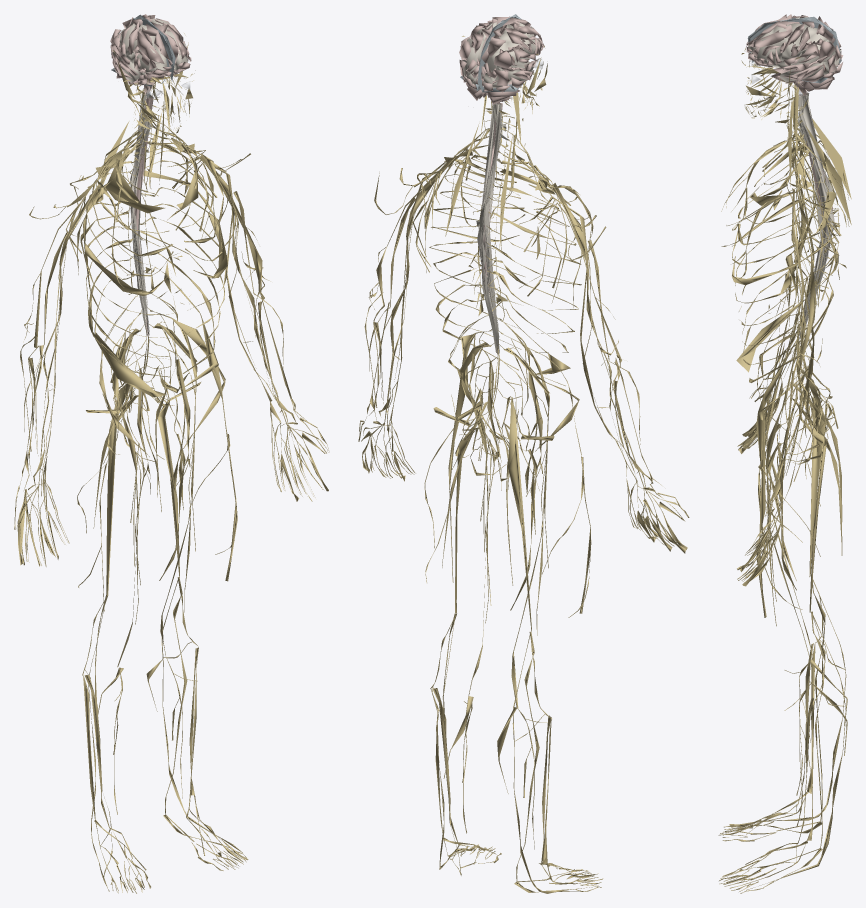
Rendered from adult_male.nervous.LOD4.glb.
The picture shows the model from 3 angles, left to right: view 1: azimuth 30°, elevation 25°; view 2: azimuth 150°, elevation 25°; view 3: azimuth 270°, elevation 25°; orthographic projection. The views are drawn at different scales.
Visible parts, largest first — view 1: ADULT.MALE.NERVOUS.INTERCOSTAL_NERVES.R, ADULT.MALE.NERVOUS.INTERCOSTAL_NERVES.L, ADULT.MALE.NERVOUS.SCIATIC_NERVE.R, ADULT.MALE.NERVOUS.LATERAL_FEMORAL_CUTANEOUS_NERVE.L, ADULT.MALE.NERVOUS.SCIATIC_NERVE.L, ADULT.MALE.NERVOUS.WHITE_MATTER_OF_TELENCEPHALON.R, ADULT.MALE.NERVOUS.FEMORAL_NERVE.R, ADULT.MALE.NERVOUS.FEMORAL_NERVE.L, ADULT.MALE.NERVOUS.DORSAL_DIGITAL_BRANCHES_OF_RADIAL_NERVE.R, ADULT.MALE.NERVOUS.SAPHENOUS_NERVE.L, ADULT.MALE.NERVOUS.MEDIAN_NERVE.L; view 2: ADULT.MALE.NERVOUS.INTERCOSTAL_NERVES.R, ADULT.MALE.NERVOUS.INTERCOSTAL_NERVES.L, ADULT.MALE.NERVOUS.SCIATIC_NERVE.R, ADULT.MALE.NERVOUS.WHITE_MATTER_OF_TELENCEPHALON.R, ADULT.MALE.NERVOUS.SAPHENOUS_NERVE.R, ADULT.MALE.NERVOUS.LATERAL_FEMORAL_CUTANEOUS_NERVE.L, ADULT.MALE.NERVOUS.ULNAR_NERVE.R, ADULT.MALE.NERVOUS.FEMORAL_NERVE.L, ADULT.MALE.NERVOUS.SAPHENOUS_NERVE.L, ADULT.MALE.NERVOUS.SPINAL_DURA, ADULT.MALE.NERVOUS.WHITE_MATTER_OF_SPINAL_CORD, ADULT.MALE.NERVOUS.LATERAL_FEMORAL_CUTANEOUS_NERVE.R (+1 smaller); view 3: ADULT.MALE.NERVOUS.INTERCOSTAL_NERVES.L, ADULT.MALE.NERVOUS.INTERCOSTAL_NERVES.R, ADULT.MALE.NERVOUS.WHITE_MATTER_OF_TELENCEPHALON, ADULT.MALE.NERVOUS.LATERAL_FEMORAL_CUTANEOUS_NERVE.L, ADULT.MALE.NERVOUS.SCIATIC_NERVE.R, ADULT.MALE.NERVOUS.SCIATIC_NERVE.L, ADULT.MALE.NERVOUS.SAPHENOUS_NERVE.L, ADULT.MALE.NERVOUS.ACCESSORY_NERVE_XI.L, ADULT.MALE.NERVOUS.ULNAR_NERVE.L, ADULT.MALE.NERVOUS.MEDIAN_NERVE.L, ADULT.MALE.NERVOUS.RADIAL_NERVE.L, ADULT.MALE.NERVOUS.VAGUS_NERVE_X.R (+29 smaller).
Boxes of the visible parts, x1=… form: ADULT.MALE.NERVOUS.INTERCOSTAL_NERVES.R: x1=80, y1=147, x2=173, y2=397; ADULT.MALE.NERVOUS.INTERCOSTAL_NERVES.L: x1=140, y1=141, x2=227, y2=389; ADULT.MALE.NERVOUS.SCIATIC_NERVE.R: x1=106, y1=383, x2=133, y2=595; ADULT.MALE.NERVOUS.LATERAL_FEMORAL_CUTANEOUS_NERVE.L: x1=173, y1=319, x2=237, y2=581; ADULT.MALE.NERVOUS.SCIATIC_NERVE.L: x1=154, y1=369, x2=179, y2=578; ADULT.MALE.NERVOUS.WHITE_MATTER_OF_TELENCEPHALON.R: x1=112, y1=22, x2=167, y2=82; ADULT.MALE.NERVOUS.FEMORAL_NERVE.R: x1=110, y1=314, x2=139, y2=566; ADULT.MALE.NERVOUS.FEMORAL_NERVE.L: x1=152, y1=311, x2=197, y2=551; ADULT.MALE.NERVOUS.DORSAL_DIGITAL_BRANCHES_OF_RADIAL_NERVE.R: x1=14, y1=486, x2=54, y2=566; ADULT.MALE.NERVOUS.SAPHENOUS_NERVE.L: x1=146, y1=437, x2=194, y2=798; ADULT.MALE.NERVOUS.MEDIAN_NERVE.L: x1=214, y1=166, x2=287, y2=424; ADULT.MALE.NERVOUS.INTERCOSTAL_NERVES.R: x1=490, y1=160, x2=581, y2=374; ADULT.MALE.NERVOUS.INTERCOSTAL_NERVES.L: x1=429, y1=155, x2=525, y2=370; ADULT.MALE.NERVOUS.SCIATIC_NERVE.R: x1=497, y1=397, x2=531, y2=631; ADULT.MALE.NERVOUS.WHITE_MATTER_OF_TELENCEPHALON.R: x1=482, y1=22, x2=540, y2=88; ADULT.MALE.NERVOUS.SAPHENOUS_NERVE.R: x1=497, y1=454, x2=546, y2=849; ADULT.MALE.NERVOUS.LATERAL_FEMORAL_CUTANEOUS_NERVE.L: x1=424, y1=334, x2=474, y2=582; ADULT.MALE.NERVOUS.ULNAR_NERVE.R: x1=552, y1=183, x2=626, y2=462; ADULT.MALE.NERVOUS.FEMORAL_NERVE.L: x1=459, y1=330, x2=490, y2=552; ADULT.MALE.NERVOUS.SAPHENOUS_NERVE.L: x1=443, y1=433, x2=491, y2=833; ADULT.MALE.NERVOUS.SPINAL_DURA: x1=476, y1=103, x2=507, y2=352; ADULT.MALE.NERVOUS.WHITE_MATTER_OF_SPINAL_CORD: x1=480, y1=186, x2=497, y2=347; ADULT.MALE.NERVOUS.LATERAL_FEMORAL_CUTANEOUS_NERVE.R: x1=527, y1=347, x2=591, y2=617; ADULT.MALE.NERVOUS.INTERCOSTAL_NERVES.L: x1=732, y1=150, x2=839, y2=382; ADULT.MALE.NERVOUS.INTERCOSTAL_NERVES.R: x1=732, y1=140, x2=838, y2=372; ADULT.MALE.NERVOUS.WHITE_MATTER_OF_TELENCEPHALON: x1=748, y1=23, x2=841, y2=82; ADULT.MALE.NERVOUS.LATERAL_FEMORAL_CUTANEOUS_NERVE.L: x1=756, y1=340, x2=820, y2=617; ADULT.MALE.NERVOUS.SCIATIC_NERVE.R: x1=802, y1=370, x2=826, y2=576; ADULT.MALE.NERVOUS.SCIATIC_NERVE.L: x1=799, y1=395, x2=826, y2=612; ADULT.MALE.NERVOUS.SAPHENOUS_NERVE.L: x1=765, y1=449, x2=847, y2=827; ADULT.MALE.NERVOUS.ACCESSORY_NERVE_XI.L: x1=786, y1=90, x2=851, y2=224; ADULT.MALE.NERVOUS.ULNAR_NERVE.L: x1=778, y1=188, x2=814, y2=478; ADULT.MALE.NERVOUS.MEDIAN_NERVE.L: x1=770, y1=197, x2=803, y2=507; ADULT.MALE.NERVOUS.RADIAL_NERVE.L: x1=798, y1=204, x2=816, y2=374; ADULT.MALE.NERVOUS.VAGUS_NERVE_X.R: x1=768, y1=82, x2=814, y2=314.
Size of the model in its own units: 0.6694 by 1.69 by 0.2433.
